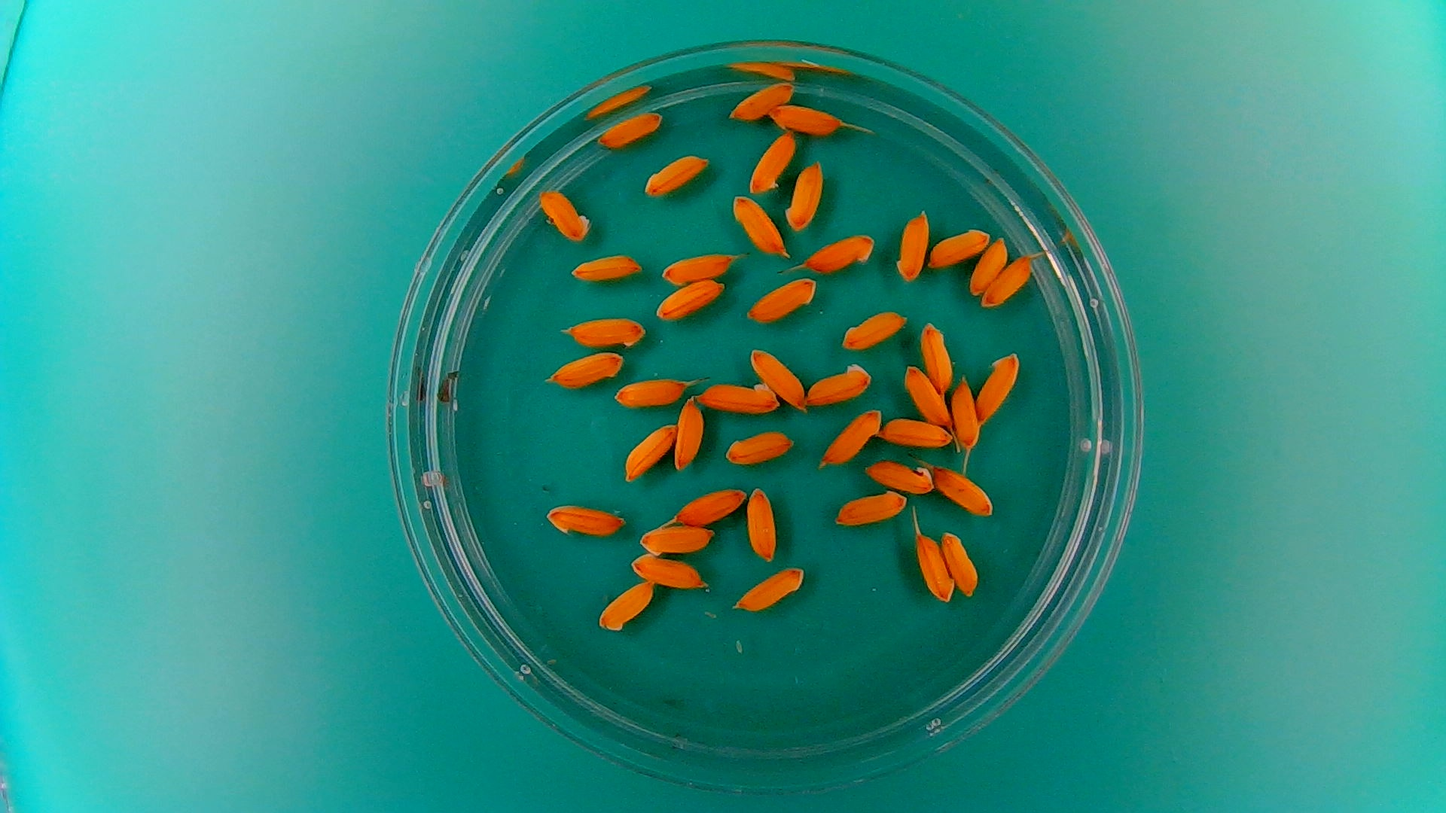no: (816, 406, 887, 466), (747, 345, 807, 411), (732, 563, 807, 614), (744, 275, 819, 324), (620, 419, 677, 483), (731, 193, 787, 257), (931, 463, 996, 518), (542, 499, 627, 540), (975, 350, 1022, 424), (747, 128, 798, 195), (535, 184, 592, 243), (694, 378, 782, 416), (594, 578, 655, 632), (902, 361, 951, 428), (803, 361, 874, 407), (545, 349, 626, 389), (782, 158, 825, 233), (642, 151, 710, 198), (803, 230, 877, 273), (563, 313, 648, 350), (913, 530, 956, 603), (654, 277, 725, 321), (671, 484, 747, 525), (832, 489, 909, 529), (628, 552, 709, 590), (982, 251, 1035, 309), (721, 426, 797, 466), (840, 308, 909, 352), (893, 208, 932, 284), (938, 528, 980, 598), (728, 78, 795, 121), (926, 226, 993, 269), (862, 456, 935, 495), (636, 526, 714, 562), (918, 319, 955, 394), (611, 373, 688, 409), (596, 108, 665, 148), (877, 415, 953, 451), (767, 101, 844, 136), (660, 250, 737, 285), (745, 485, 780, 562), (948, 374, 981, 452), (673, 394, 706, 470), (969, 235, 1009, 297), (569, 251, 643, 283)
